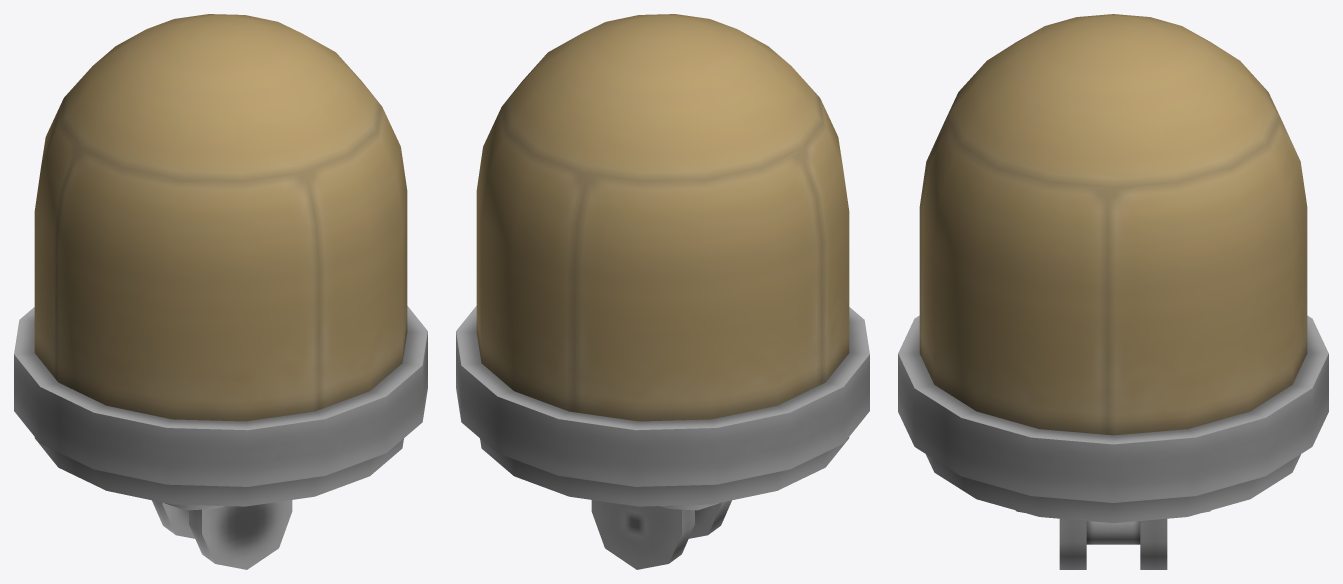
Rendered from Alniyat_Antenna_2_3_1.obj.
The picture shows the model from 3 angles, left to right: view 1: azimuth 30°, elevation 25°; view 2: azimuth 150°, elevation 25°; view 3: azimuth 270°, elevation 25°; orthographic projection. The views are drawn at different scales.
Visible parts, largest first — view 1: Alniyat_Antenna_2_3_1; view 2: Alniyat_Antenna_2_3_1; view 3: Alniyat_Antenna_2_3_1.
Boxes of the visible parts, bbox=[...] form: Alniyat_Antenna_2_3_1: bbox=[14, 14, 427, 569]; Alniyat_Antenna_2_3_1: bbox=[456, 14, 869, 569]; Alniyat_Antenna_2_3_1: bbox=[898, 14, 1328, 569].
Size of the model in its own units: 0.2 by 0.275 by 0.2.
